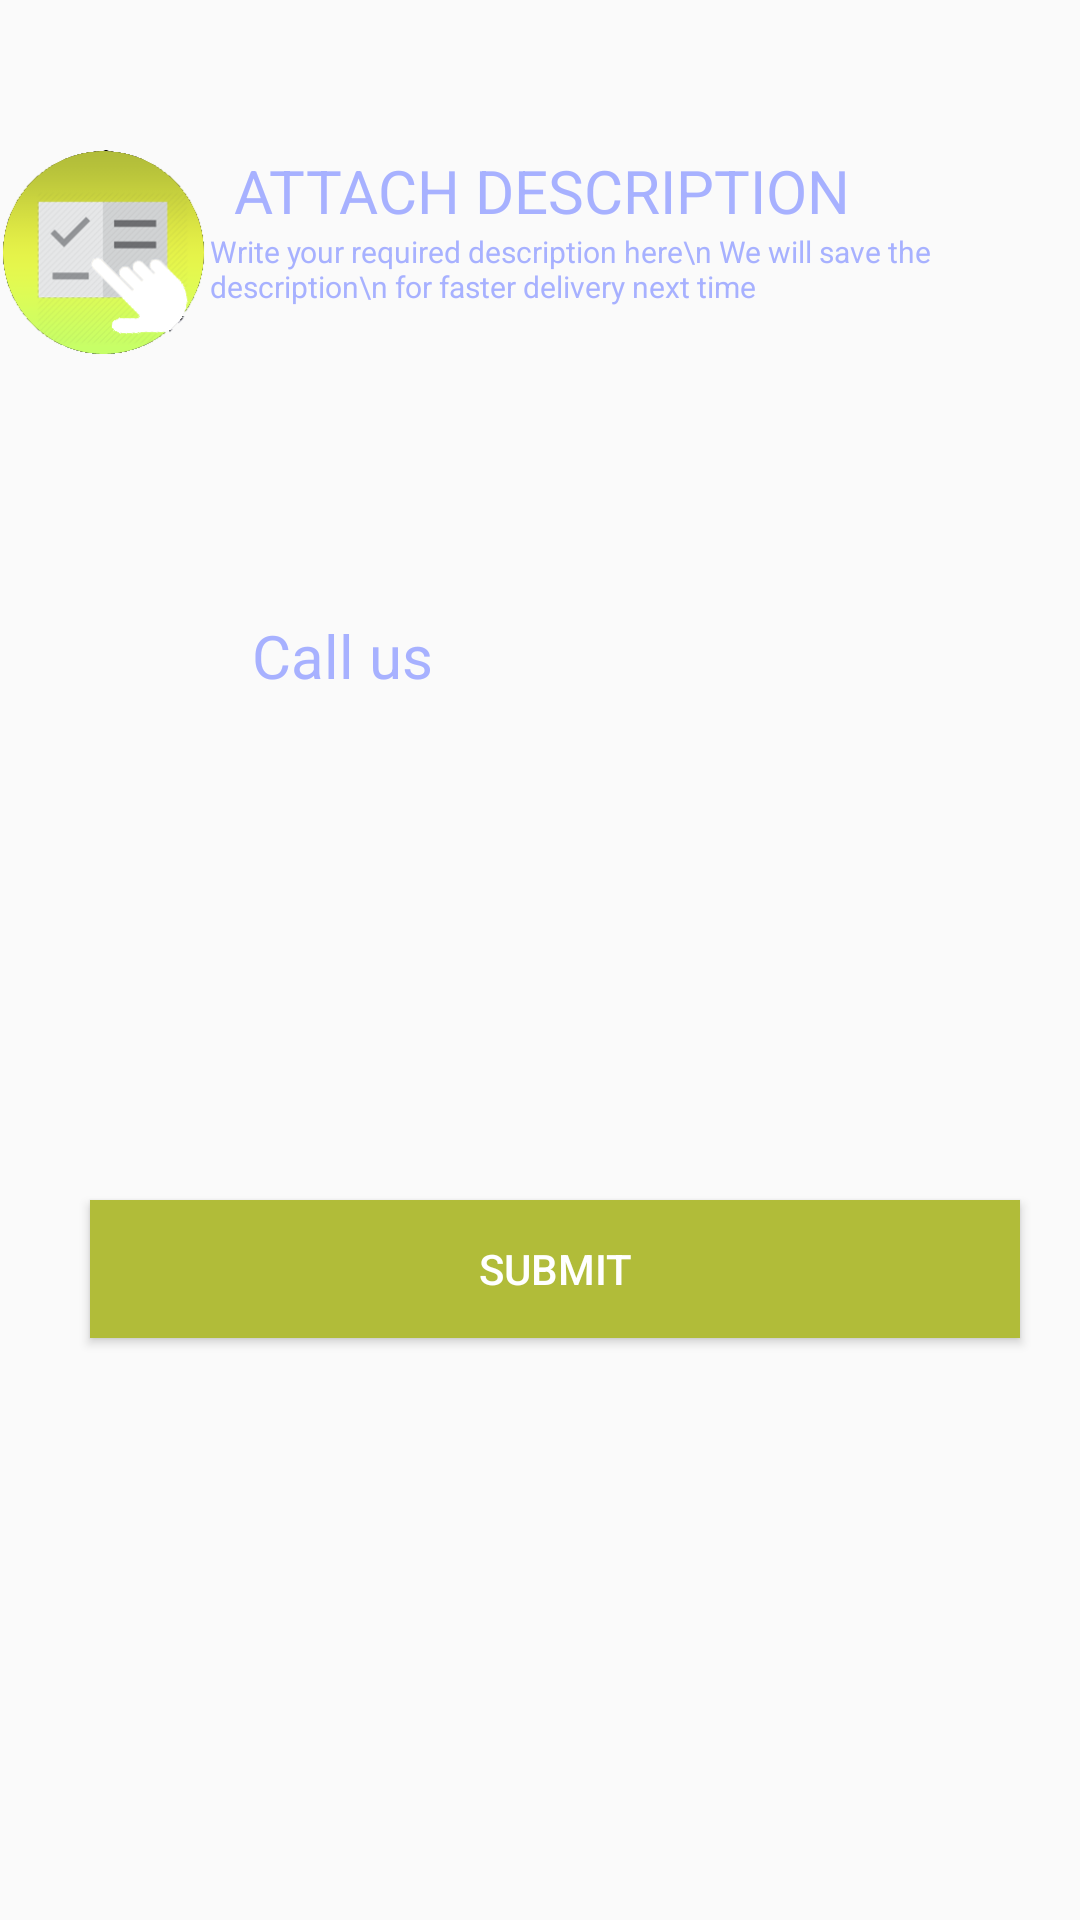

Where icons sit on this 1080px x 1920px app screen, as (x1, y1, x2, y2):
booking: (3, 150, 204, 354)
